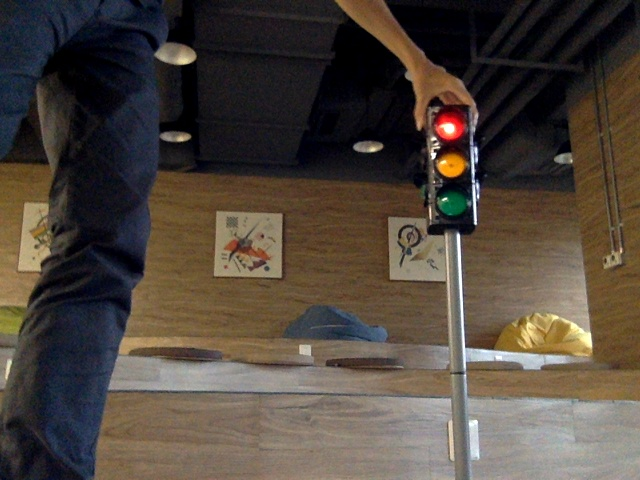red: (427, 110, 472, 225)
